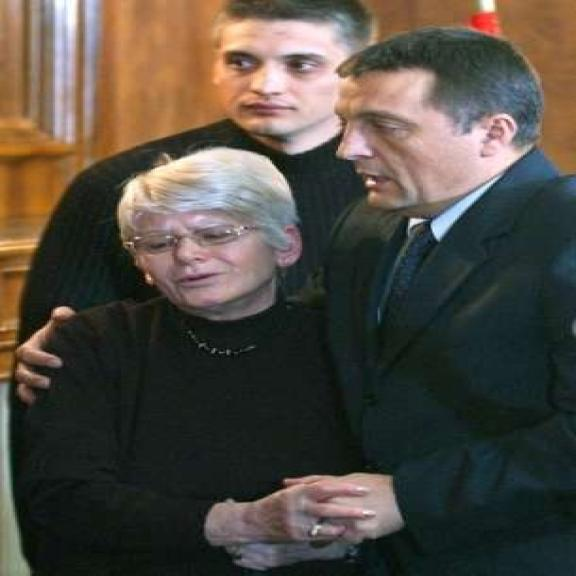face: (338, 78, 524, 216), (134, 209, 308, 313), (215, 16, 354, 144)
